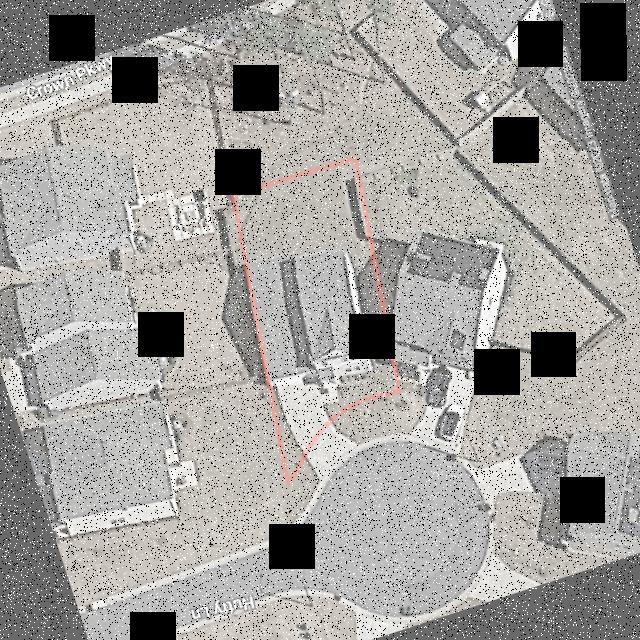Driveway: (277, 383, 327, 449)
Extra Driveway: (305, 423, 354, 478)
House: (250, 248, 370, 390)
Sidewalk: (321, 381, 338, 404)
